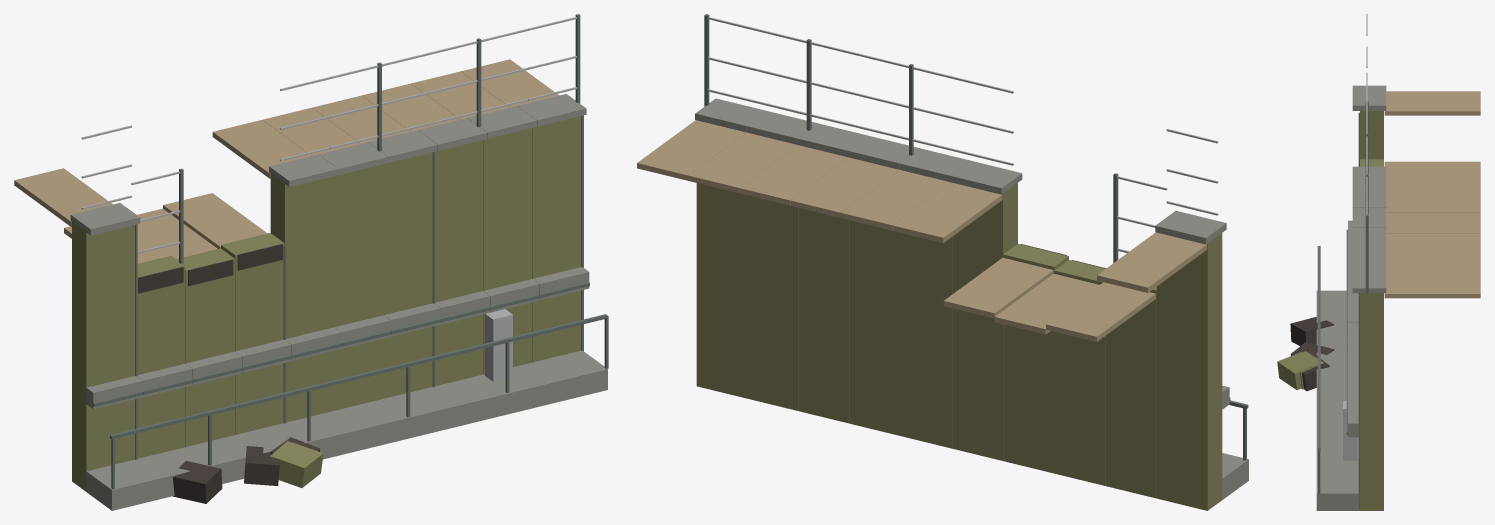
Rendered from SM_MuroRampa_v3_Pasillo_e2_MuyDanado_LOD0.fbx.
3 views of the same model, side by side, from view 1: azimuth 30°, elevation 25°; view 2: azimuth 150°, elevation 25°; view 3: azimuth 270°, elevation 25° (orthographic). The views are drawn at different scales.
Visible parts, largest first — view 1: SM_muro_rampa_v14_LOD0; view 2: SM_muro_rampa_v14_LOD0; view 3: SM_muro_rampa_v14_LOD0.
Part boxes in pixels (x1=…): SM_muro_rampa_v14_LOD0: x1=14, y1=14, x2=608, y2=510; SM_muro_rampa_v14_LOD0: x1=637, y1=14, x2=1248, y2=510; SM_muro_rampa_v14_LOD0: x1=1277, y1=14, x2=1480, y2=510.
Bounding box in the file's own units: 10.03 × 6.84 × 4.24.
